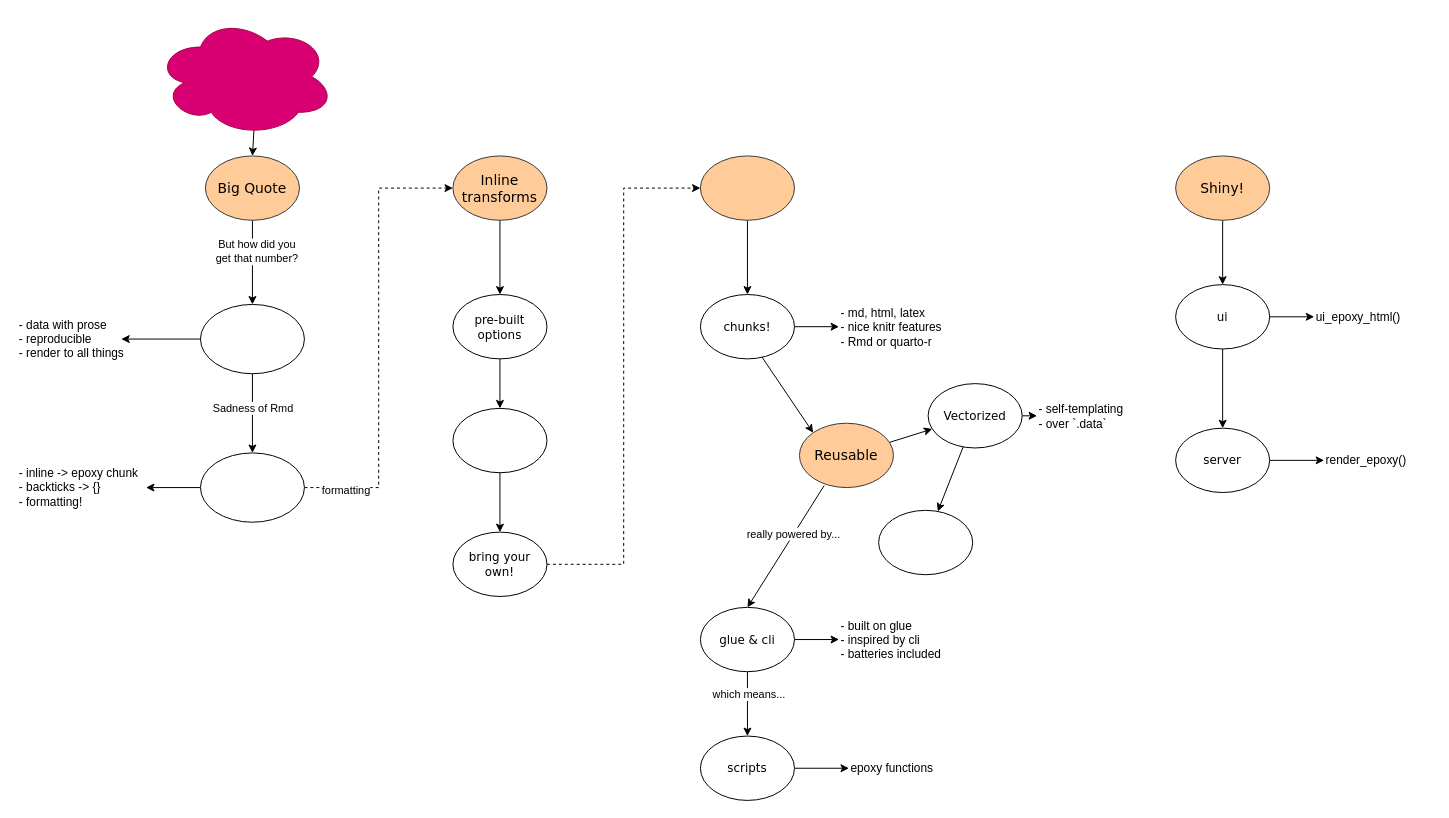
This 1449x818 diagram has some shape labels left out. Each missing label, with the box of its shape:
can be nested: (452, 407, 547, 473)
chunk or file reuse: (878, 509, 973, 575)
epoxy super-glue: (155, 16, 334, 136)
epoxy syntax: (199, 452, 304, 522)
promise and magic of Rmd: (199, 303, 304, 374)
Wherever you explain: (699, 155, 794, 220)
